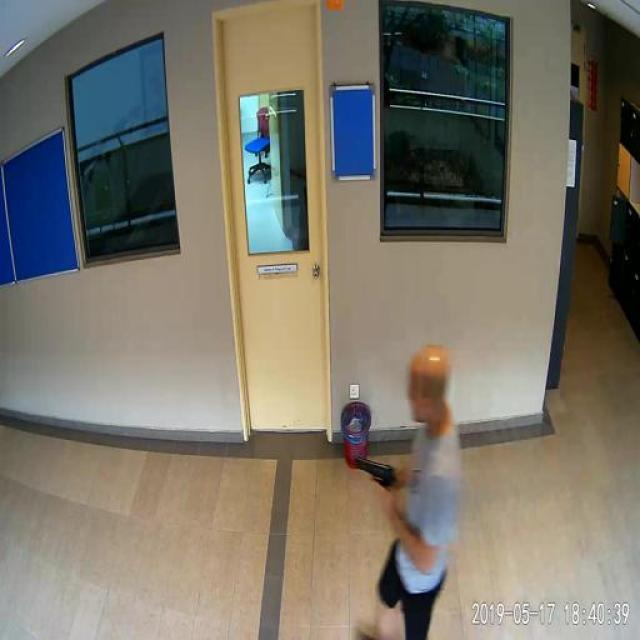Gun: (332, 447, 403, 515)
